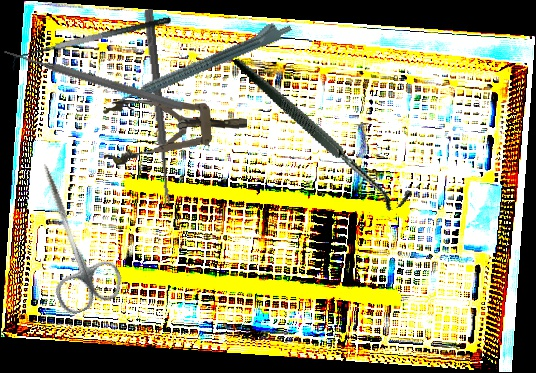Handpiece: (112, 15, 294, 108)
Hook Surgical: (232, 18, 415, 244)
Iris Scissors: (11, 153, 128, 318)
Pusher: (2, 45, 185, 113)
Spatula Surgical: (8, 15, 175, 71)
Speculum: (99, 92, 250, 166)
Surgical Spoon: (142, 9, 174, 205)
